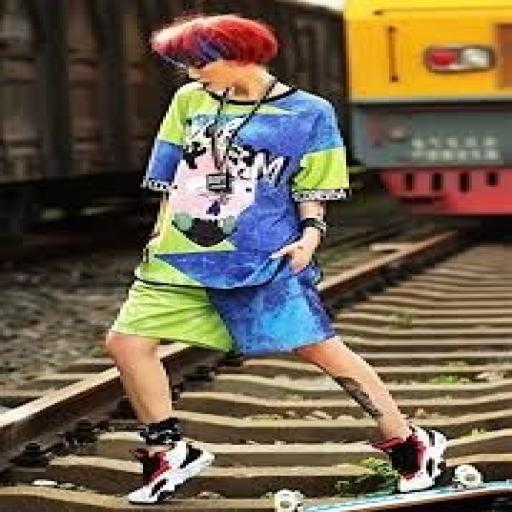dancing: (100, 11, 455, 506)
